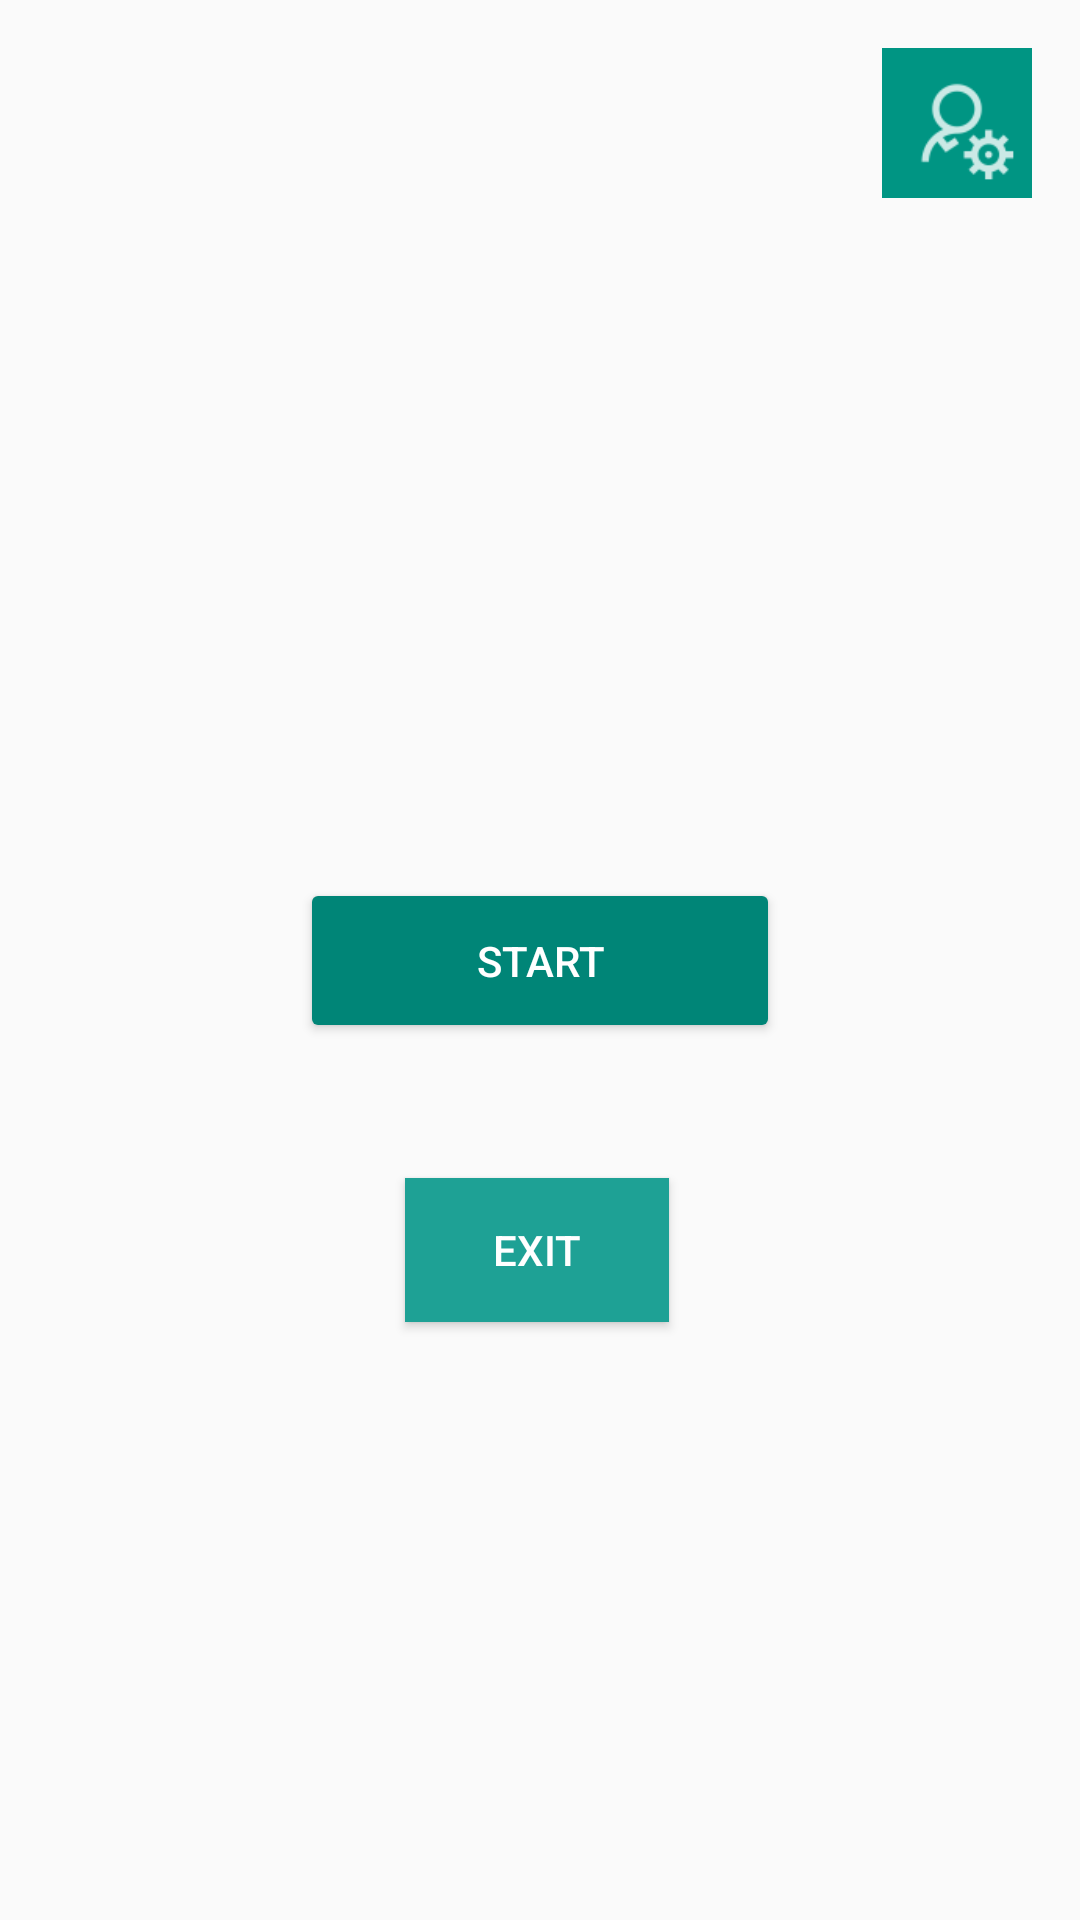

Icons on this 1080w x 1920h Android screen, each with its box as (x1, y1, x2, y2):
Opens Admin Login Dialog: (882, 48, 1032, 198)
